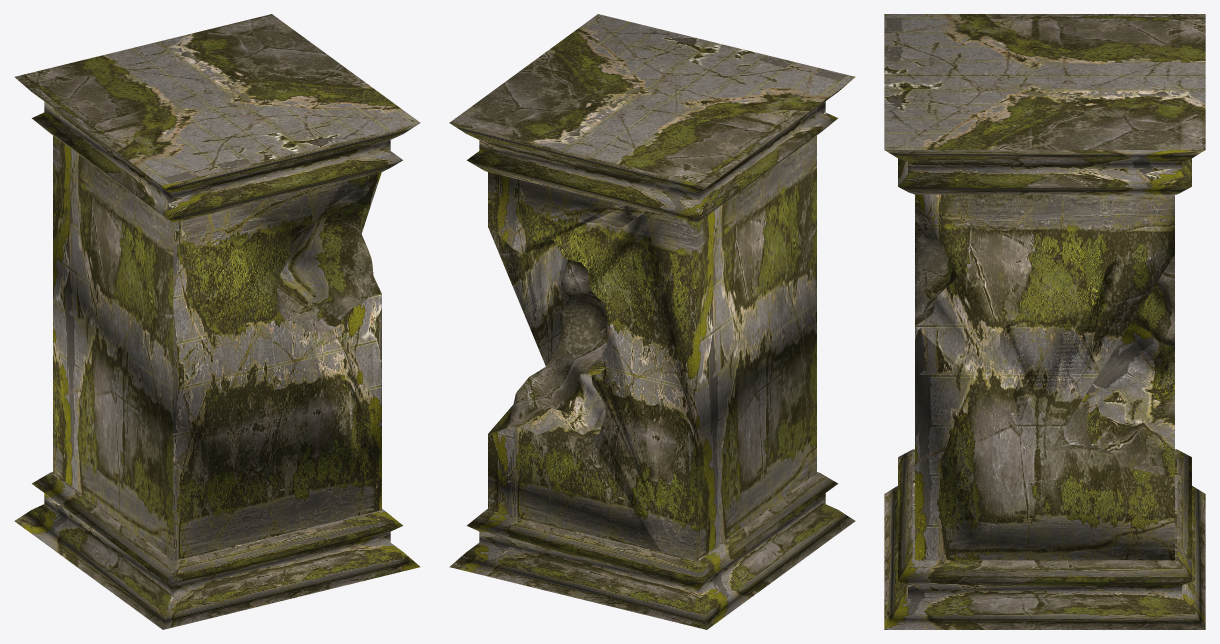
File: Broken_pillar2.fbx
The picture shows the model from 3 angles, left to right: view 1: azimuth 30°, elevation 25°; view 2: azimuth 150°, elevation 25°; view 3: azimuth 270°, elevation 25°; orthographic projection. The views are drawn at different scales.
Visible parts, largest first — view 1: Cube.002; view 2: Cube.002; view 3: Cube.002.
Boxes of the visible parts, x1,y1,x2,y2 form: Cube.002: (14, 14, 420, 629); Cube.002: (449, 14, 855, 629); Cube.002: (884, 14, 1205, 629).
Size of the model in its own units: 247 by 407 by 247.
